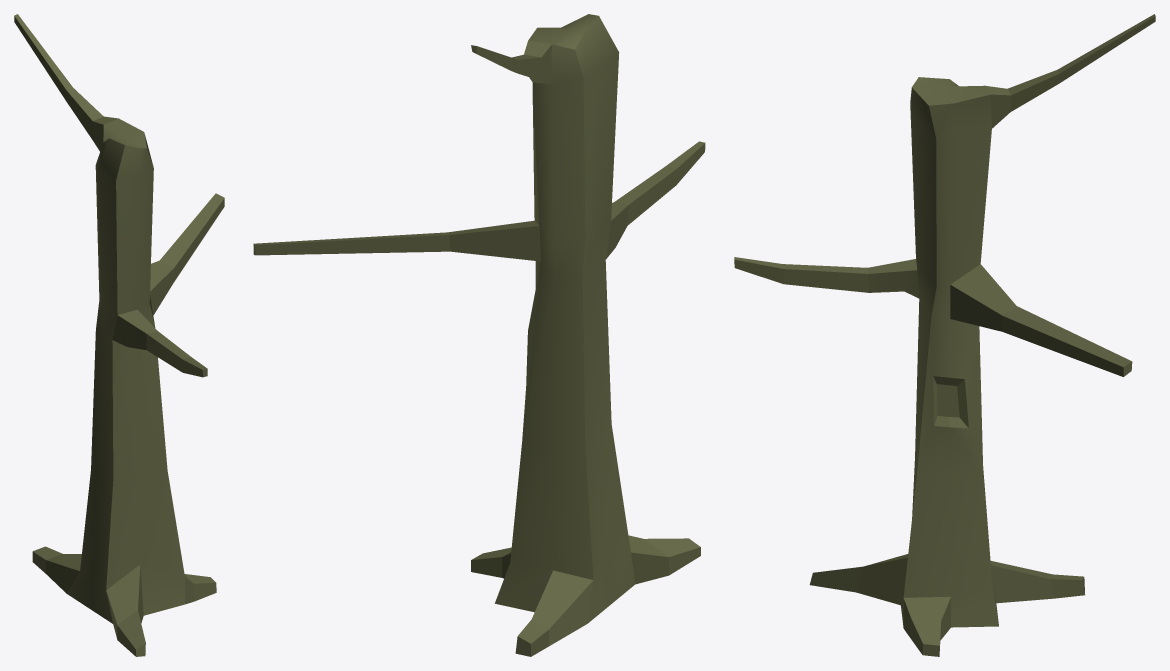
File: deadtree.fbx
3 renders of one model, left to right at view 1: azimuth 30°, elevation 25°; view 2: azimuth 150°, elevation 25°; view 3: azimuth 270°, elevation 25°, orthographic. The views are drawn at different scales.
Visible parts, largest first — view 1: deadtree; view 2: deadtree; view 3: deadtree.
Part boxes in pixels (x1,y1,x2,y2): deadtree: (14,14,224,656); deadtree: (253,14,705,656); deadtree: (734,14,1155,656).
Size of the model in its own units: 3.07 by 6.78 by 4.41.
